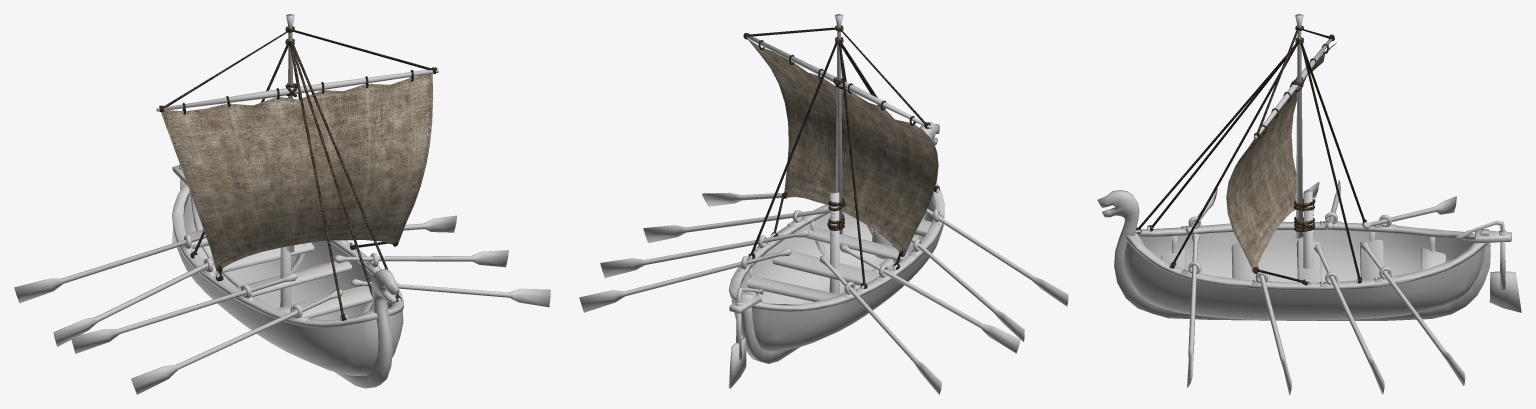
Rendered from Medieval_boat_sailing.FBX.
3 views of the same model, side by side, from view 1: azimuth 30°, elevation 25°; view 2: azimuth 150°, elevation 25°; view 3: azimuth 270°, elevation 25° (orthographic). The views are drawn at different scales.
Visible parts, largest first — view 1: medieval_boat, boat_paddle_12, boat_paddle_13, boat_paddle_02, boat_paddle_16, boat_paddle_11, boat_paddle_15, boat_paddle_14; view 2: medieval_boat, boat_paddle_17, boat_paddle_14, boat_paddle_11, boat_paddle_15, boat_paddle_02, boat_paddle_13, boat_wheel, boat_paddle_12, boat_paddle_16; view 3: medieval_boat, boat_wheel, boat_paddle_17, boat_paddle_14, boat_paddle_16, boat_paddle_15, boat_paddle_02.
Boxes of the visible parts, <box> form: medieval_boat: <box>156,14,438,388</box>; boat_paddle_12: <box>71,273,297,353</box>; boat_paddle_13: <box>131,289,342,394</box>; boat_paddle_02: <box>14,234,206,303</box>; boat_paddle_16: <box>351,278,550,307</box>; boat_paddle_11: <box>53,260,214,346</box>; boat_paddle_15: <box>334,250,508,267</box>; boat_paddle_14: <box>403,215,457,232</box>; medieval_boat: <box>729,14,944,363</box>; boat_paddle_17: <box>579,248,791,312</box>; boat_paddle_14: <box>600,229,808,277</box>; boat_paddle_11: <box>839,244,1020,353</box>; boat_paddle_15: <box>643,208,830,242</box>; boat_paddle_02: <box>819,256,941,394</box>; boat_paddle_13: <box>926,208,1068,306</box>; boat_wheel: <box>728,288,763,388</box>; boat_paddle_12: <box>911,238,1024,341</box>; boat_paddle_16: <box>702,192,795,206</box>; medieval_boat: <box>1097,14,1511,320</box>; boat_wheel: <box>1456,220,1521,312</box>; boat_paddle_17: <box>1361,242,1465,385</box>; boat_paddle_14: <box>1314,244,1384,394</box>; boat_paddle_16: <box>1187,233,1199,387</box>; boat_paddle_15: <box>1257,260,1291,394</box>; boat_paddle_02: <box>1362,196,1456,229</box>.
Bounding box in the file's own units: 550 × 391 × 497.
